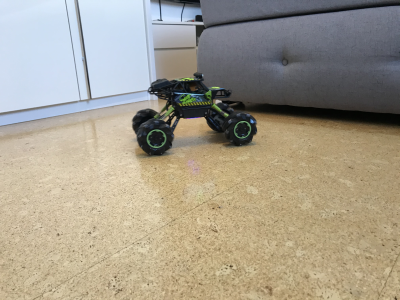remote control car: (127, 69, 260, 157)
